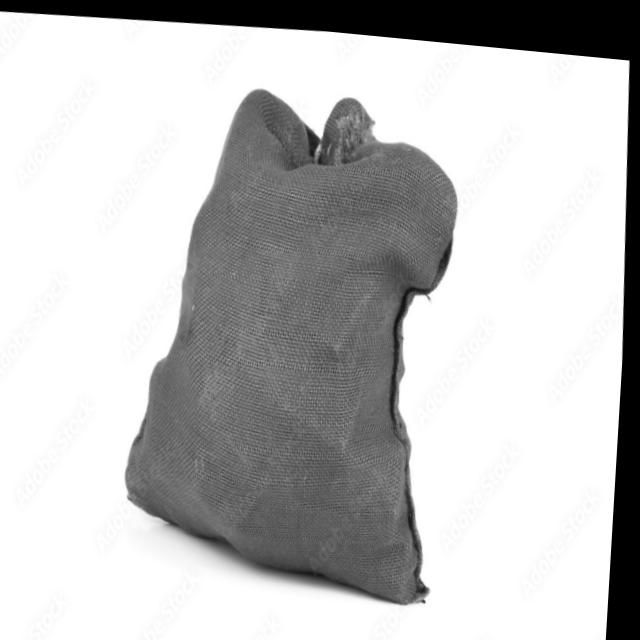sack: (111, 65, 477, 611)
